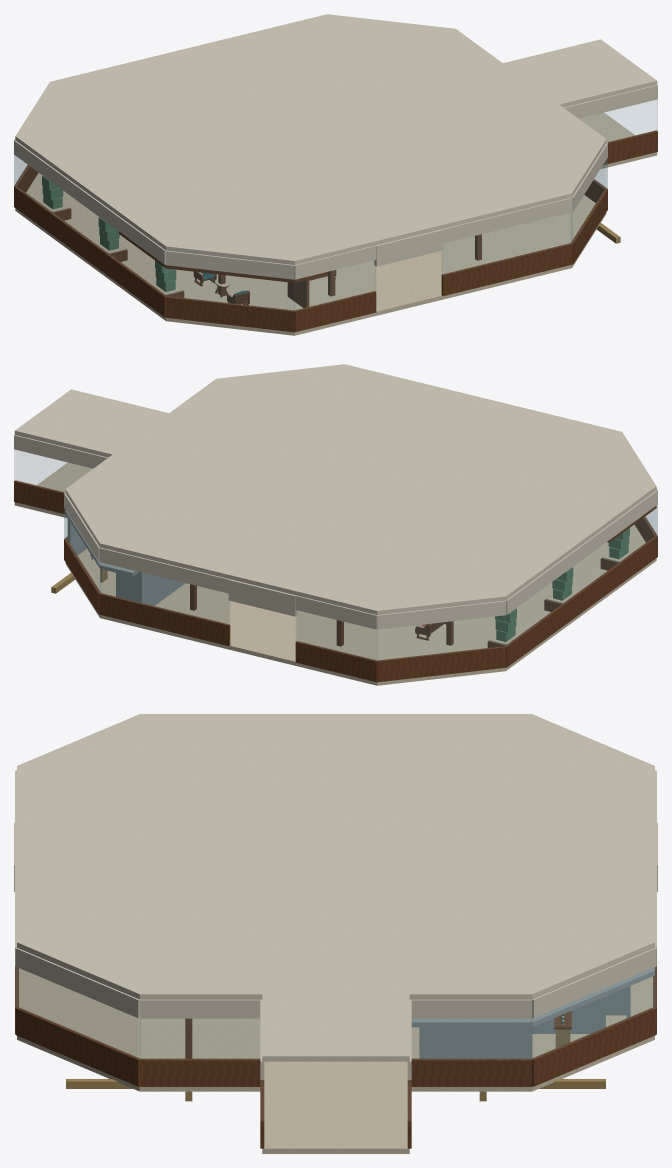
Rendered from D04_PORT_CENTRAL_CO_r002.glb.
3 views of the same model, one above another, from view 1: azimuth 30°, elevation 25°; view 2: azimuth 150°, elevation 25°; view 3: azimuth 270°, elevation 25° (orthographic). The views are drawn at different scales.
Visible parts, largest first — view 1: PCC_CommonsRoof, PCC_CommonsFloor, PCC_PerimeterGlass_11_0, PCC_PerimeterGlass_9_1, PCC_PerimeterGlass_10_0, PCC_PerimeterDado_11_0, PCC_PerimeterDado_9_1, PCC_PerimeterDado_10_0, PCC_PerimeterGlass_9_0, PCC_PerimeterHead_11_0, PCC_PerimeterHead_9_1, PCC_PerimeterHead_10_0 (+11 smaller); view 2: PCC_CommonsRoof, PCC_CommonsFloor, PCC_PerimeterGlass_11_0, PCC_PerimeterGlass_1_1, PCC_PerimeterGlass_0_0, PCC_PerimeterDado_11_0, PCC_PerimeterDado_1_1, PCC_PerimeterDado_0_0, PCC_PerimeterGlass_1_0, PCC_PerimeterHead_11_0, PCC_PerimeterHead_1_1, PCC_PerimeterHead_0_0 (+12 smaller); view 3: PCC_CommonsRoof, PCC_CommonsFloor, PCC_PerimeterGlass_8_0, PCC_PerimeterGlass_7_0, PCC_PerimeterGlass_2_0, PCC_PerimeterGlass_3_0, PCC_PerimeterDado_2_0, PCC_PerimeterDado_8_0, PCC_ServiceEast, PCC_PerimeterDado_7_0, PCC_PerimeterDado_3_0, PCC_PerimeterHead_2_0 (+6 smaller).
Boxes of the visible parts, x1,y1,x2,y2 form: PCC_CommonsRoof: [15, 14, 657, 264]; PCC_CommonsFloor: [15, 112, 657, 335]; PCC_PerimeterGlass_11_0: [14, 155, 166, 295]; PCC_PerimeterGlass_9_1: [442, 213, 572, 274]; PCC_PerimeterGlass_10_0: [166, 268, 294, 310]; PCC_PerimeterDado_11_0: [14, 186, 166, 317]; PCC_PerimeterDado_9_1: [441, 243, 572, 295]; PCC_PerimeterDado_10_0: [165, 296, 294, 332]; PCC_PerimeterGlass_9_0: [294, 261, 375, 310]; PCC_PerimeterHead_11_0: [14, 140, 165, 264]; PCC_PerimeterHead_9_1: [442, 197, 572, 243]; PCC_PerimeterHead_10_0: [165, 250, 294, 279]; PCC_CommonsRoof: [14, 364, 656, 614]; PCC_CommonsFloor: [14, 462, 656, 685]; PCC_PerimeterGlass_11_0: [505, 505, 657, 645]; PCC_PerimeterGlass_1_1: [99, 563, 229, 624]; PCC_PerimeterGlass_0_0: [377, 616, 505, 660]; PCC_PerimeterDado_11_0: [505, 536, 657, 667]; PCC_PerimeterDado_1_1: [99, 593, 230, 645]; PCC_PerimeterDado_0_0: [377, 646, 506, 682]; PCC_PerimeterGlass_1_0: [296, 611, 377, 660]; PCC_PerimeterHead_11_0: [506, 490, 657, 614]; PCC_PerimeterHead_1_1: [99, 547, 229, 593]; PCC_PerimeterHead_0_0: [377, 600, 506, 629]; PCC_CommonsRoof: [17, 714, 654, 1061]; PCC_CommonsFloor: [17, 968, 654, 1153]; PCC_PerimeterGlass_8_0: [16, 967, 140, 1058]; PCC_PerimeterGlass_7_0: [140, 1019, 259, 1059]; PCC_PerimeterGlass_2_0: [531, 967, 655, 1058]; PCC_PerimeterGlass_3_0: [412, 1019, 531, 1059]; PCC_PerimeterDado_2_0: [531, 1007, 656, 1086]; PCC_PerimeterDado_8_0: [15, 1007, 139, 1086]; PCC_ServiceEast: [419, 1027, 532, 1058]; PCC_PerimeterDado_7_0: [139, 1058, 260, 1086]; PCC_PerimeterDado_3_0: [411, 1058, 532, 1086]; PCC_PerimeterHead_2_0: [532, 948, 656, 1018].
Size of the model in its own units: 33.08 by 5.22 by 26.24.
81 materials, 77 textured.
